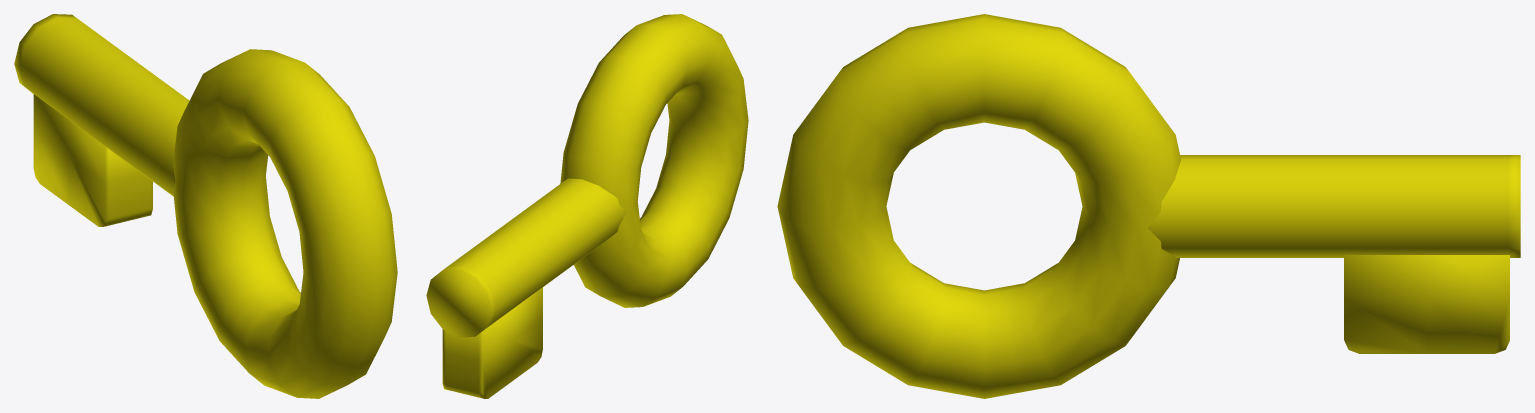
File: Key.fbx
The picture shows the model from 3 angles, left to right: view 1: azimuth 30°, elevation 25°; view 2: azimuth 150°, elevation 25°; view 3: azimuth 270°, elevation 25°; orthographic projection. The views are drawn at different scales.
Parts seen in each view (by area): view 1: Key; view 2: Key; view 3: Key.
Part boxes in pixels (x1,y1,x2,y2): Key: (14,14,397,398); Key: (426,14,748,398); Key: (777,14,1520,398).
Size of the model in its own units: 0.4982 by 1.89 by 3.4.
